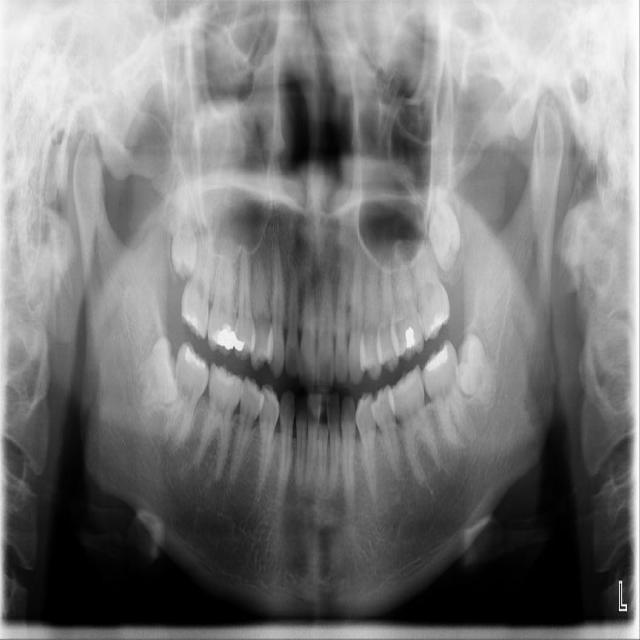3M ESPE Implant: (162, 176, 201, 280)
52: (161, 338, 223, 400), (413, 339, 468, 404), (415, 279, 455, 342), (201, 306, 241, 359), (390, 304, 424, 363), (178, 285, 212, 338), (231, 314, 258, 362)
73: (625, 622, 633, 630)
BioHorizons Implant: (411, 230, 453, 341)
BioLife Implant: (424, 185, 465, 273)
Biomet 3i Implant: (439, 330, 510, 414)
Blue Sky Bio Implant: (414, 337, 477, 452)
Caries: (176, 223, 217, 339)
Implant: (158, 338, 215, 462)
Keystone Dental Implant: (118, 333, 203, 424)
